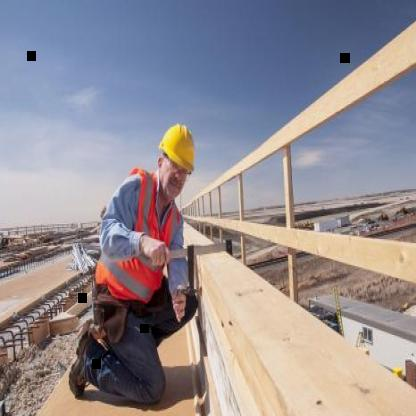helmet: (157, 117, 197, 181)
